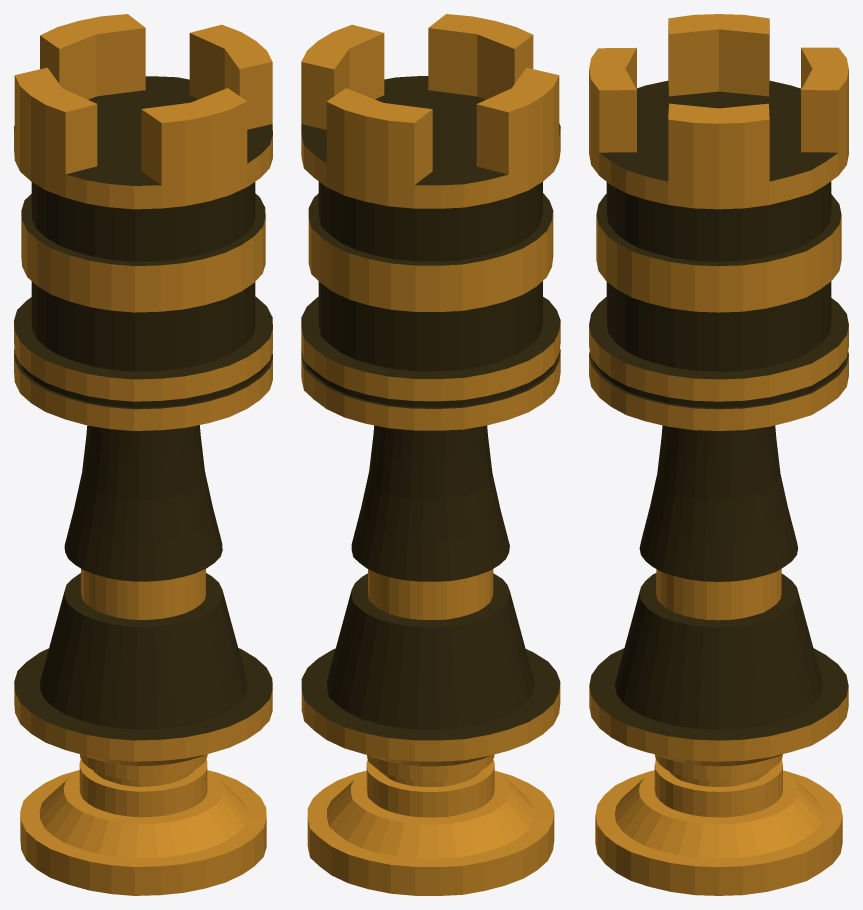
File: metal_r_b.glb
3 views of the same model, side by side, from view 1: azimuth 30°, elevation 25°; view 2: azimuth 150°, elevation 25°; view 3: azimuth 270°, elevation 25° (orthographic).
Parts seen in each view (by area): view 1: r0, r1; view 2: r0, r1; view 3: r0, r1.
Boxes of the visible parts, x1=… form: r0: x1=14, y1=14, x2=272, y2=895; r1: x1=14, y1=76, x2=272, y2=740; r0: x1=301, y1=14, x2=560, y2=895; r1: x1=301, y1=76, x2=560, y2=740; r0: x1=589, y1=14, x2=848, y2=895; r1: x1=589, y1=80, x2=848, y2=740.
Bounding box in the file's own units: 0.2735 × 0.9 × 0.2735.
